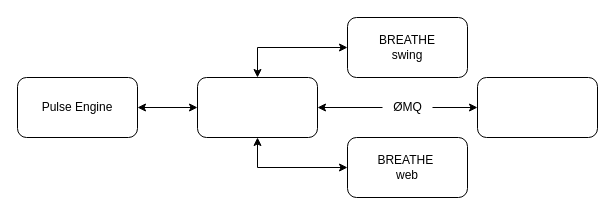
Some shapes in this 615 by 215 pixel diagram are drawn without their labels. Here are the shapes that lost their labels. From the top down, the centre of each, then its label:
At pixel 257 107: "BREATHE engine".
At pixel 537 107: "External Ventilator".
